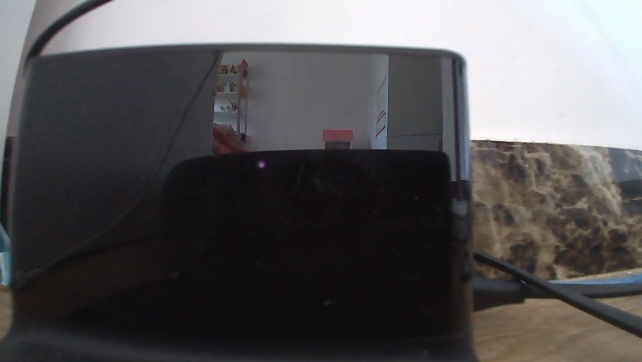wire: (475, 251, 641, 339), (22, 0, 113, 71)
